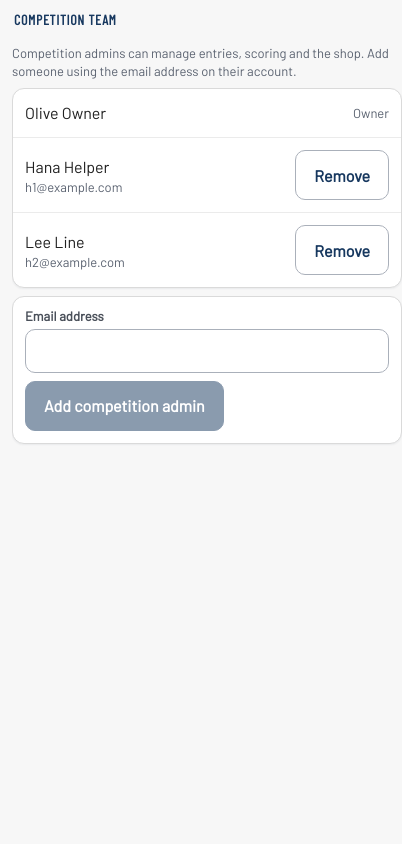
Test: CompetitionTeamCard › replaces someone who is added a second time instead of listing them twice
Expected: the text "Hana Helper" is shown, [25, 155, 122, 179]
In the field labelled "Email address": (207, 351) [25, 329, 389, 373], type "h1@example.com"
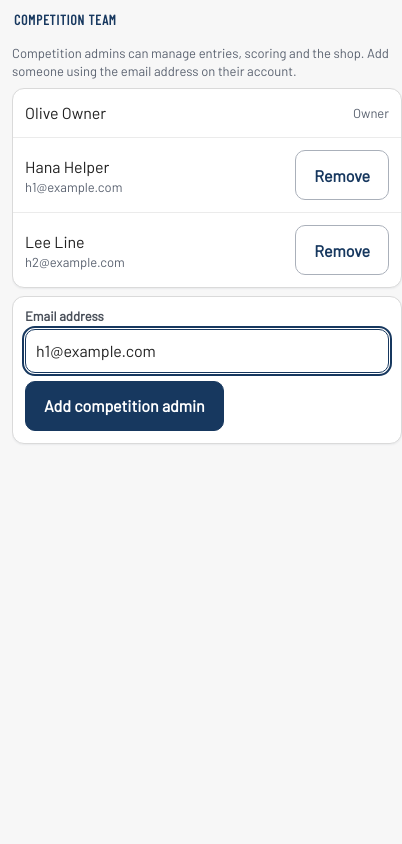
Click the button "Add competition admin": (124, 406) [25, 381, 224, 431]
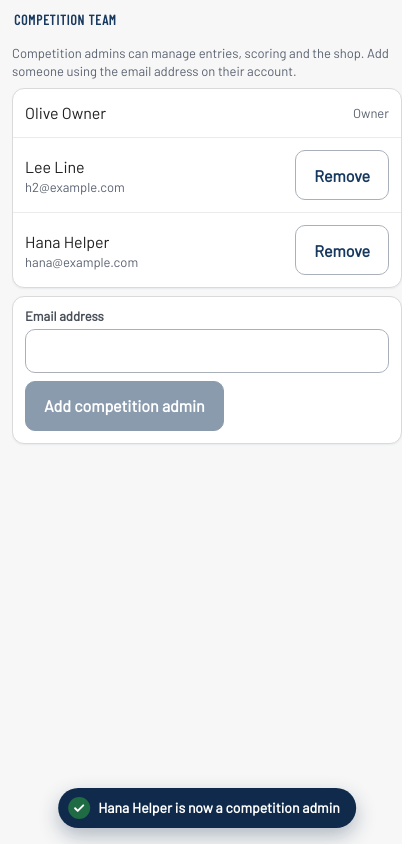
Expected: the text "Hana Helper" is shown once, [25, 232, 109, 251]
Result: the text "hana@example.com" is shown at [25, 254, 138, 271]
